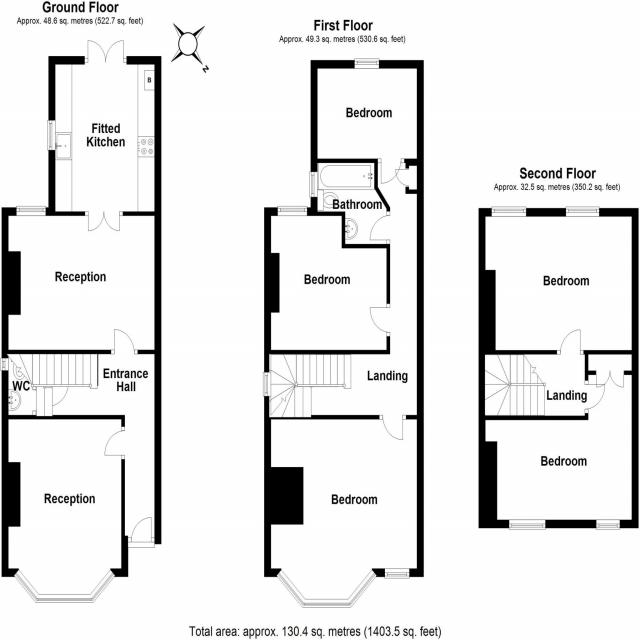DOOR: (366, 305, 392, 337), (102, 429, 127, 459), (368, 213, 393, 243), (130, 513, 153, 545), (112, 327, 137, 356), (379, 157, 403, 187), (381, 413, 405, 442), (558, 327, 582, 356)
DOUBLE DOOR: (87, 38, 126, 64)
ROOM: (264, 413, 425, 609), (478, 369, 639, 528), (0, 414, 128, 605), (0, 205, 162, 355), (478, 207, 639, 355), (47, 39, 163, 233), (263, 207, 391, 356), (309, 59, 424, 186)
WINDOW: (275, 568, 306, 610), (347, 569, 378, 608), (13, 568, 40, 604), (90, 568, 116, 605), (582, 383, 608, 412), (36, 592, 94, 604), (301, 597, 352, 609), (508, 517, 547, 532), (490, 205, 528, 219), (564, 205, 601, 219), (276, 204, 309, 218), (353, 57, 381, 72), (383, 566, 411, 581), (15, 205, 47, 218), (594, 517, 621, 531), (46, 118, 57, 152), (308, 170, 319, 199), (261, 370, 272, 398)
